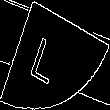L_NE: (36, 26, 74, 84)
